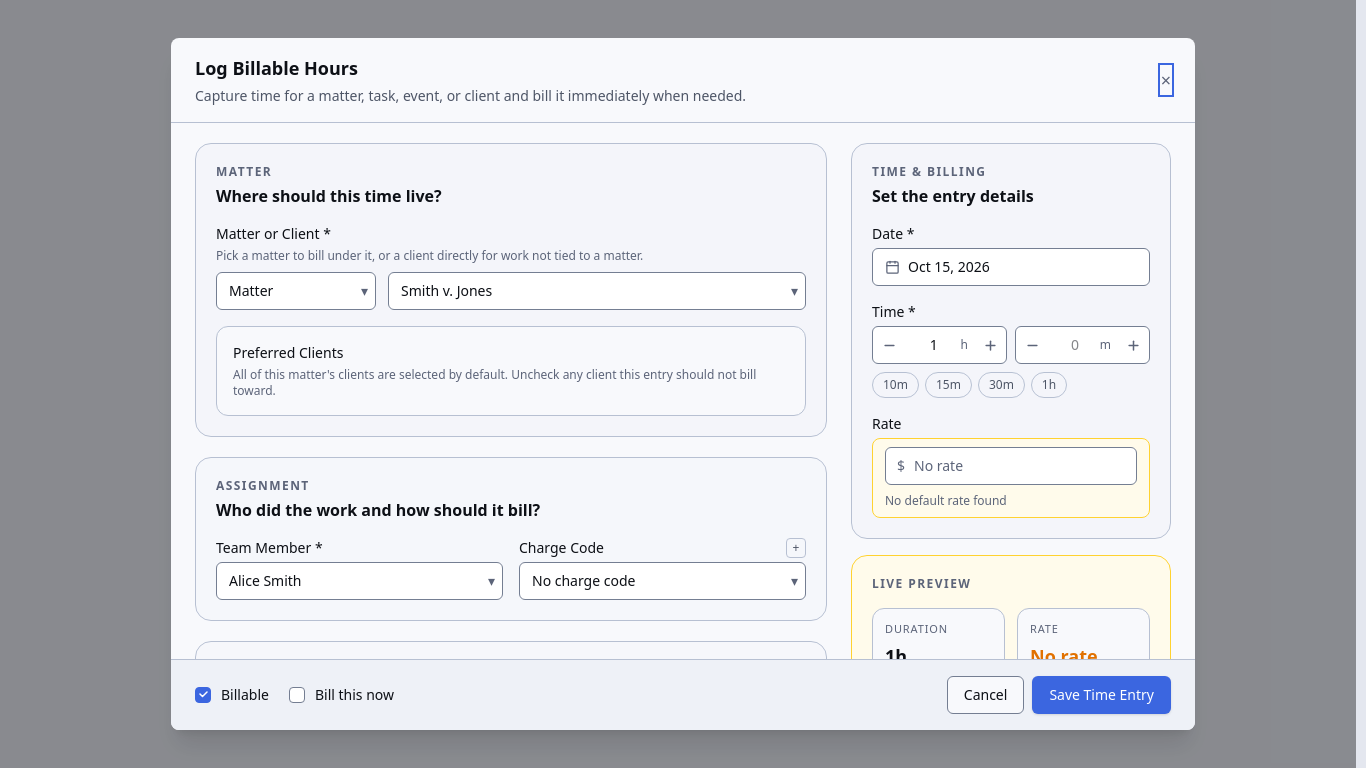
Test: TimeEntryModal › target picker › offers the selected matter's members as team members
Expected: the text "Smith v. Jones" is shown, [401,281,492,301]
Click the button "Alice Smith ▾".
click(265, 581)  # box [216,562,503,600]
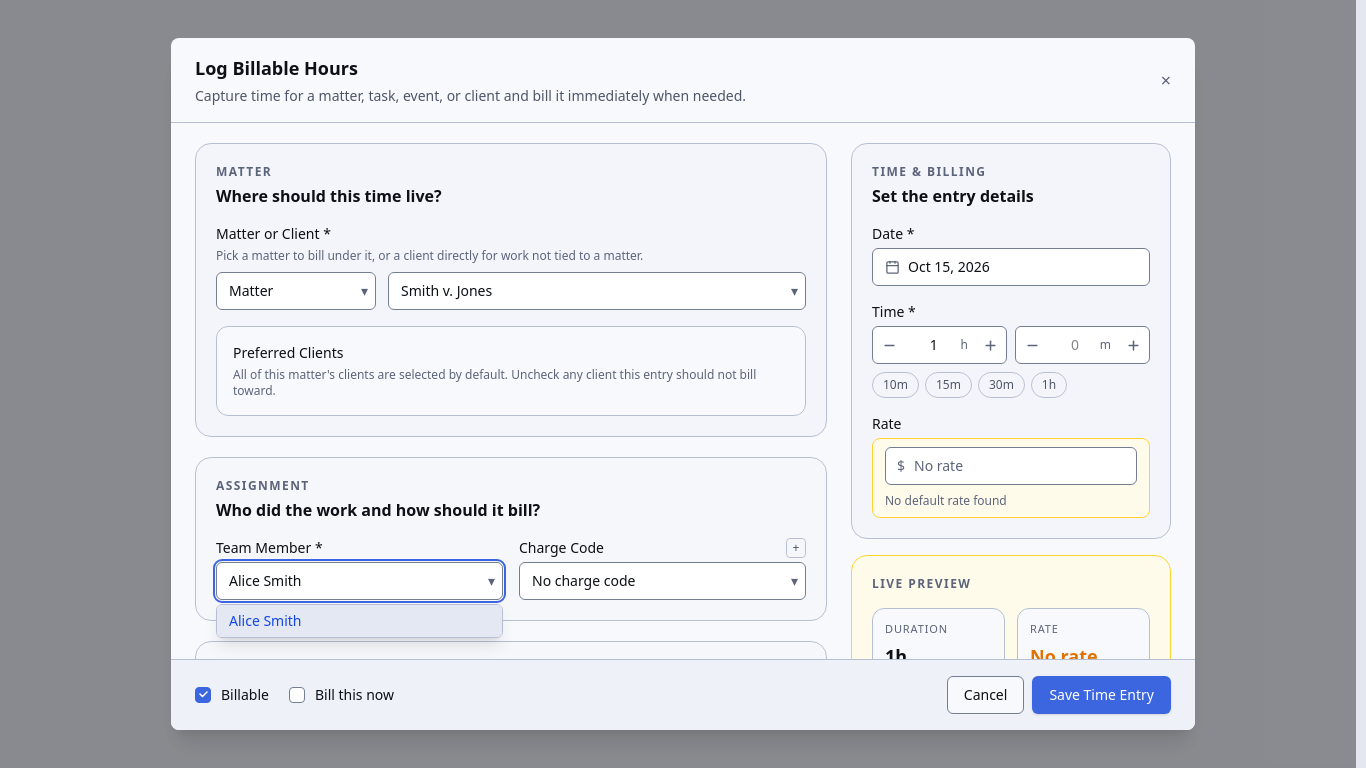
Expected: the option "Alice Smith" is shown, [217,605,502,637]
